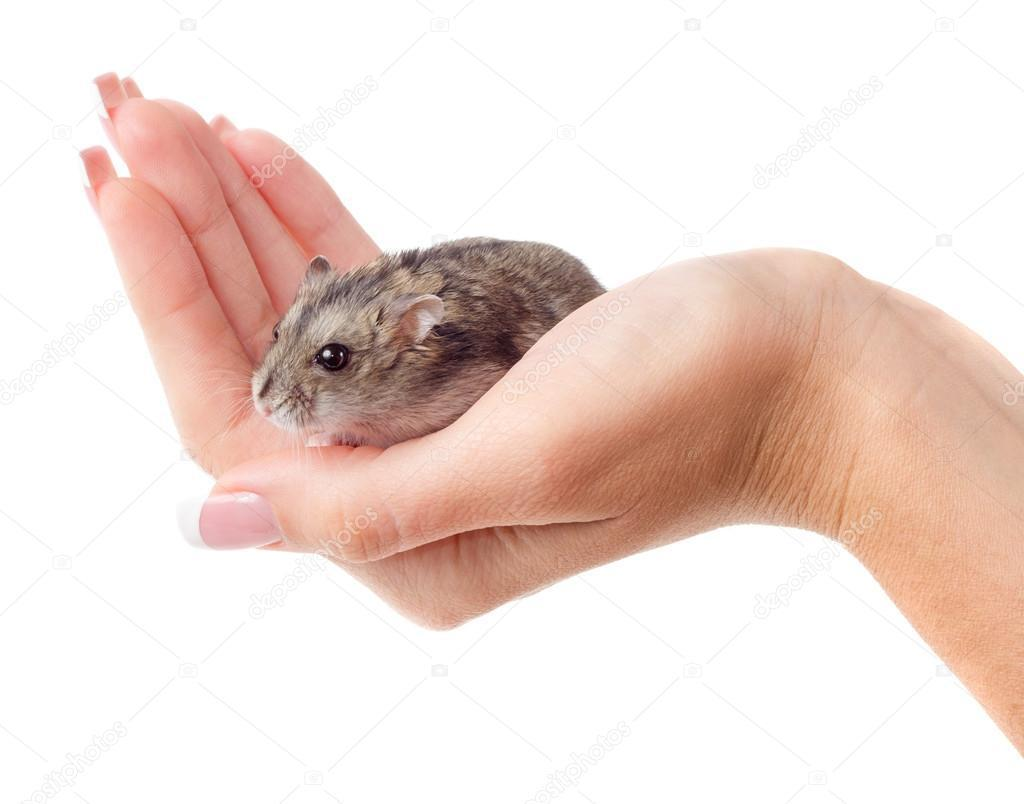rat: (252, 235, 608, 455)
